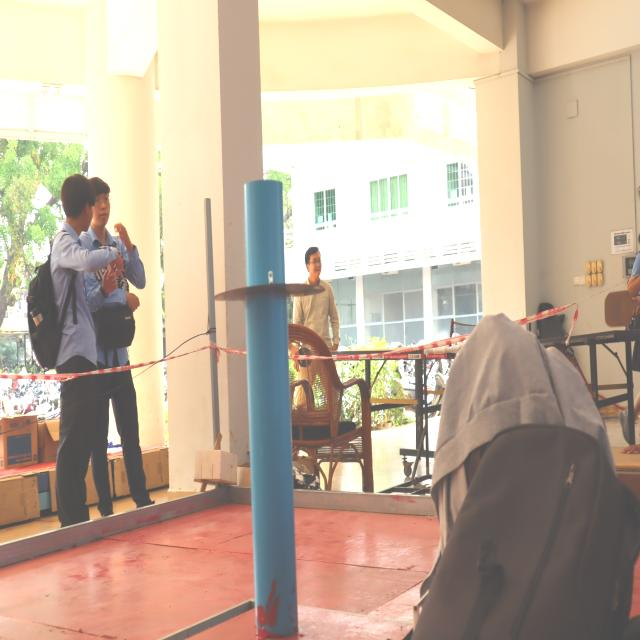pole: (206, 165, 326, 411)
